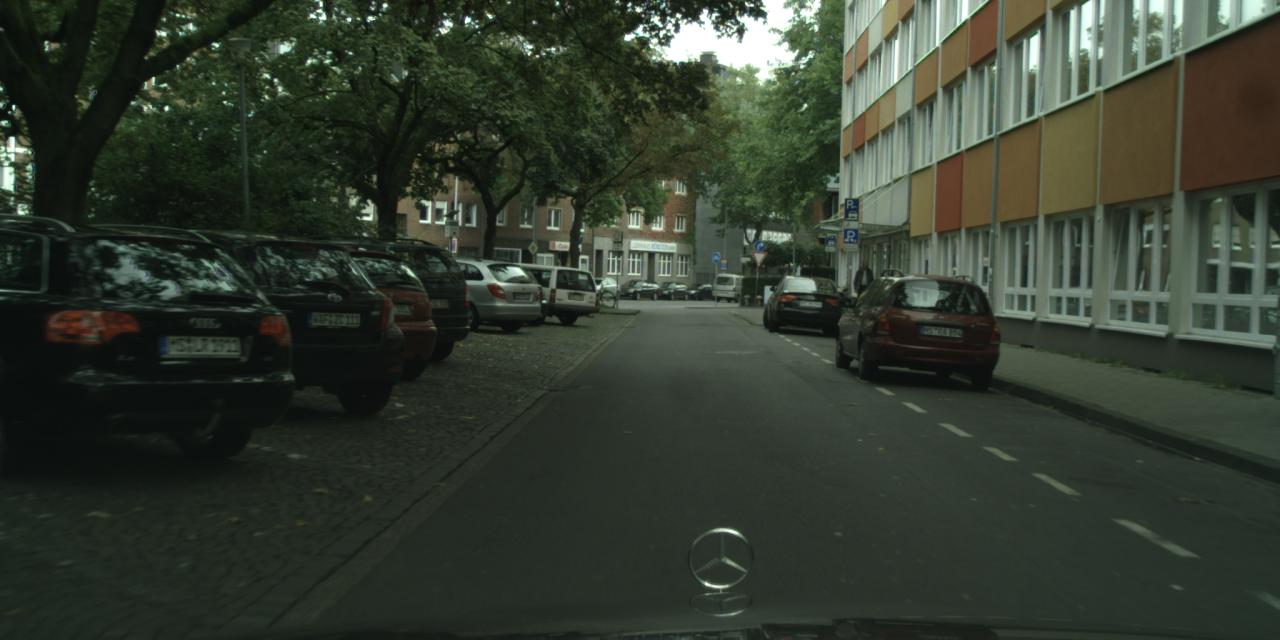ped: (853, 258, 876, 316)
